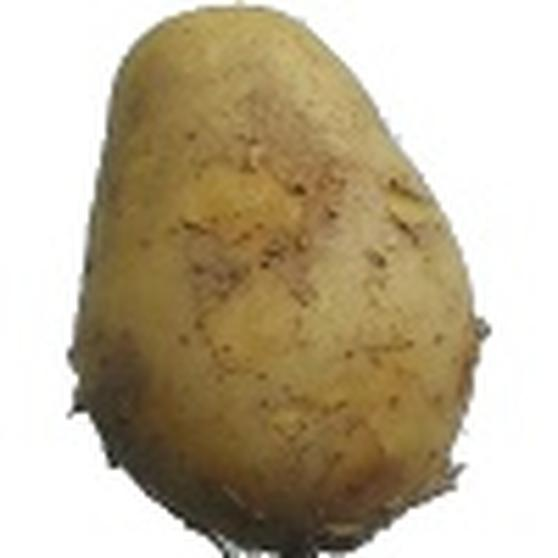potato: (78, 3, 486, 558)
